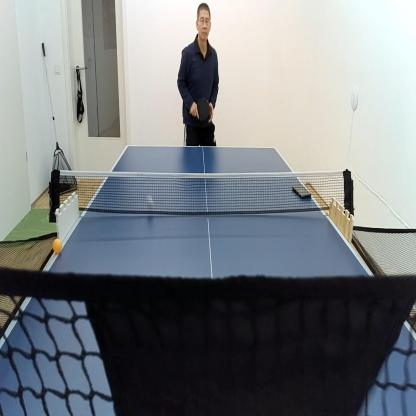Ball: (53, 237, 62, 254), (146, 194, 154, 207)
